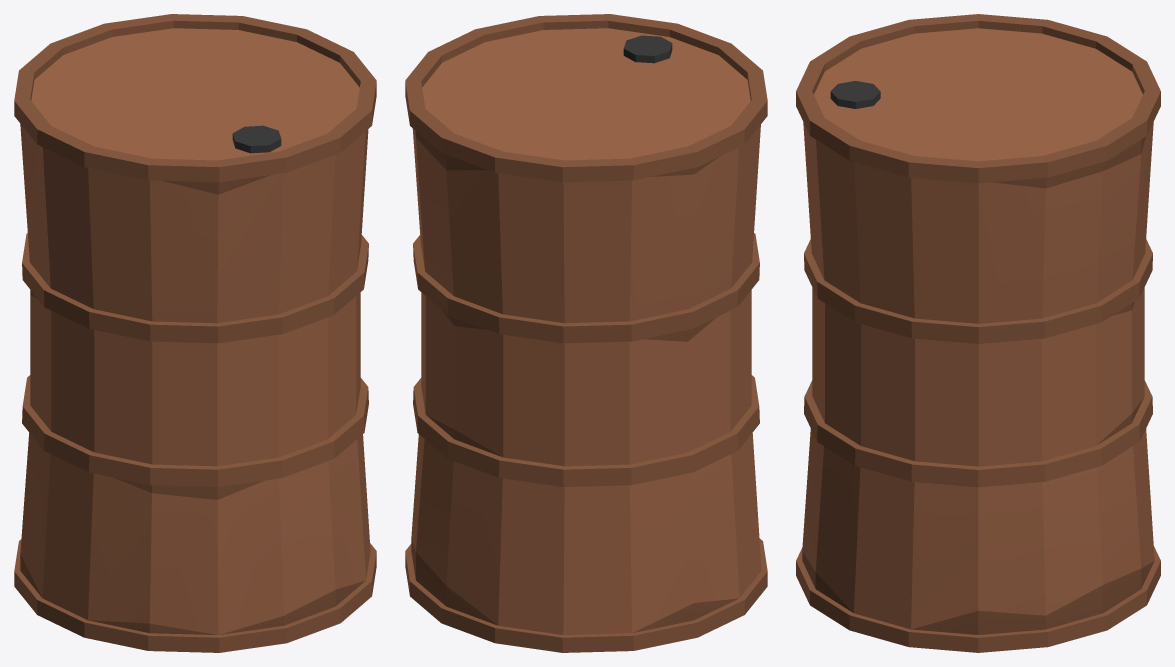
File: SM_IndustrialProps_Barrel_03.fbx
The picture shows the model from 3 angles, left to right: view 1: azimuth 30°, elevation 25°; view 2: azimuth 150°, elevation 25°; view 3: azimuth 270°, elevation 25°; orthographic projection.
Parts seen in each view (by area): view 1: SM_IndustrialProps_Barrel_03; view 2: SM_IndustrialProps_Barrel_03; view 3: SM_IndustrialProps_Barrel_03.
Part boxes in pixels (x1,y1,x2,y2): SM_IndustrialProps_Barrel_03: (14, 14, 376, 652); SM_IndustrialProps_Barrel_03: (405, 14, 767, 652); SM_IndustrialProps_Barrel_03: (796, 14, 1160, 652).
Size of the model in its own units: 0.6002 by 0.88 by 0.6002.
